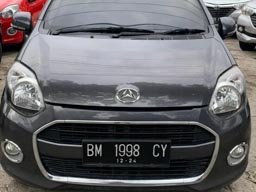plat: (82, 141, 170, 156)
